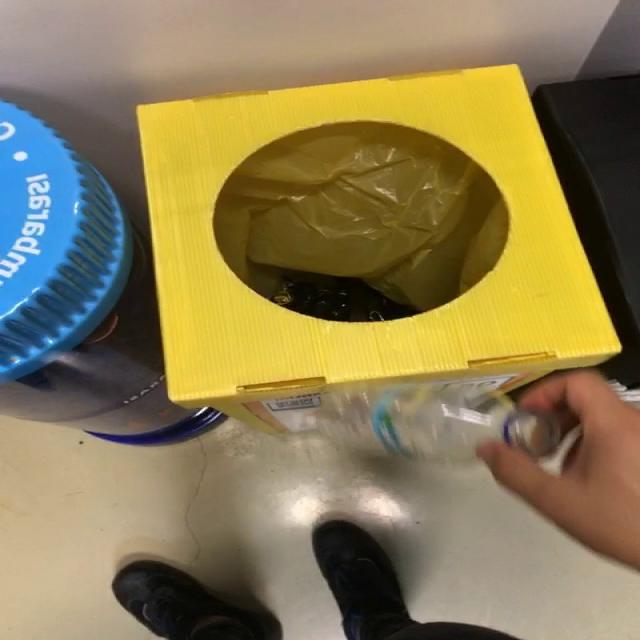plastic: (316, 377, 564, 462)
